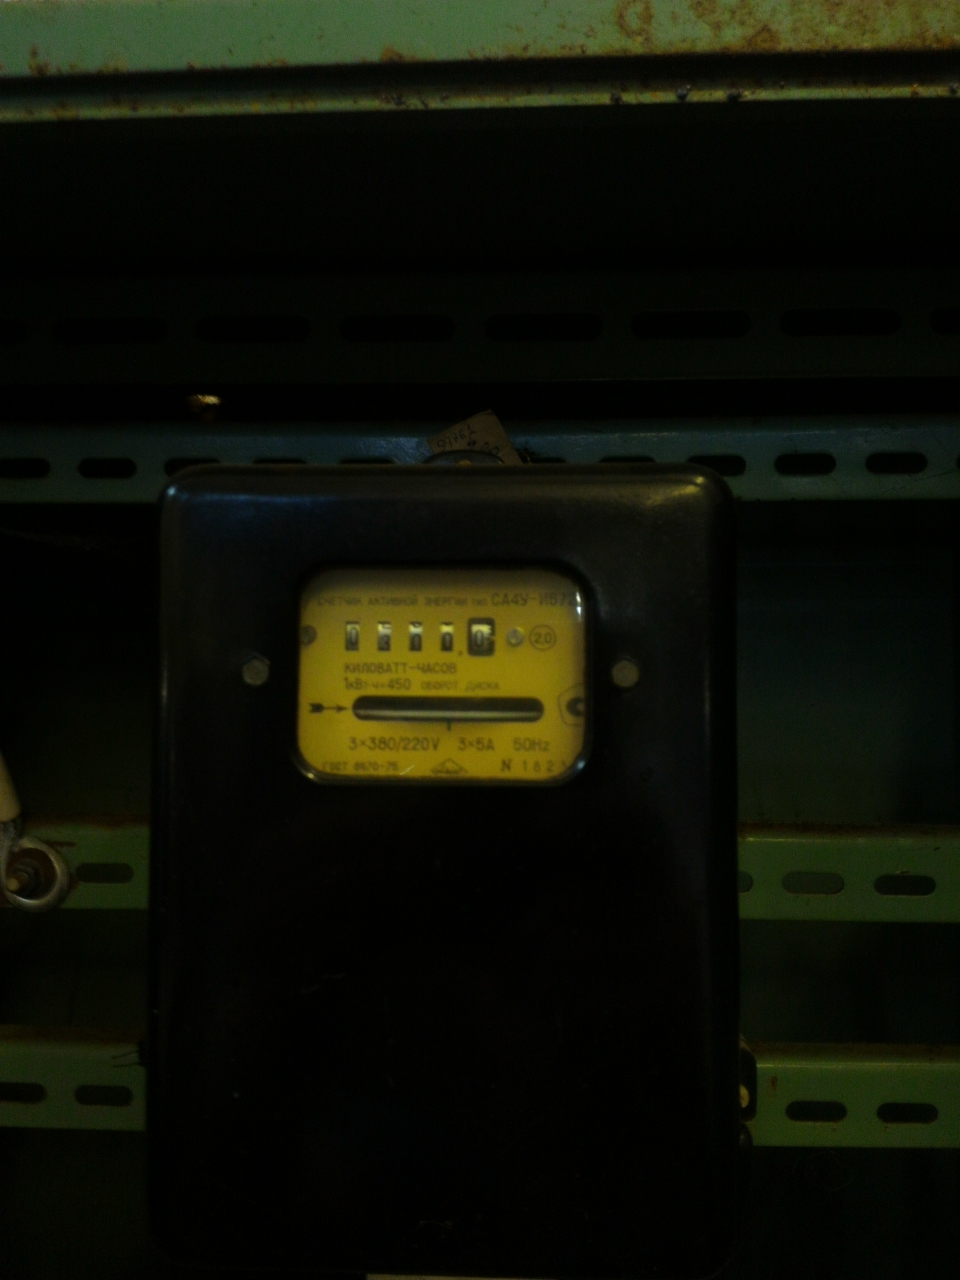0: (440, 630, 454, 653), (473, 627, 486, 649), (347, 625, 359, 645), (410, 632, 422, 652)
3: (379, 633, 391, 652)
screen: (328, 610, 504, 661)
